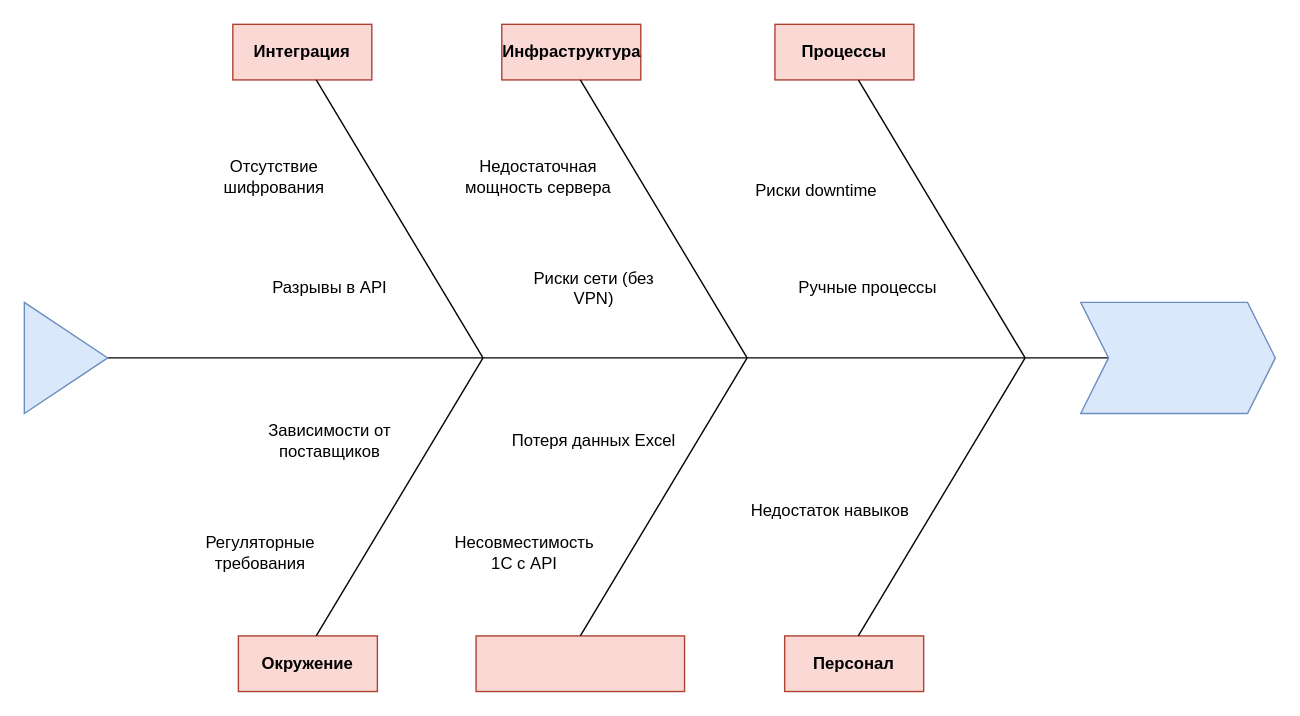
Image size: 1300x716. Some labels were removed from this diagram. Each missing label, with the centre of its shape:
"Программное обеспечение" belongs at point 580,663.
"Узкие места при миграции" belongs at point 1177,357.
